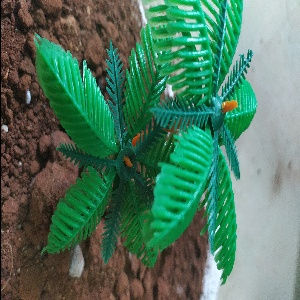plant: (28, 1, 255, 284)
